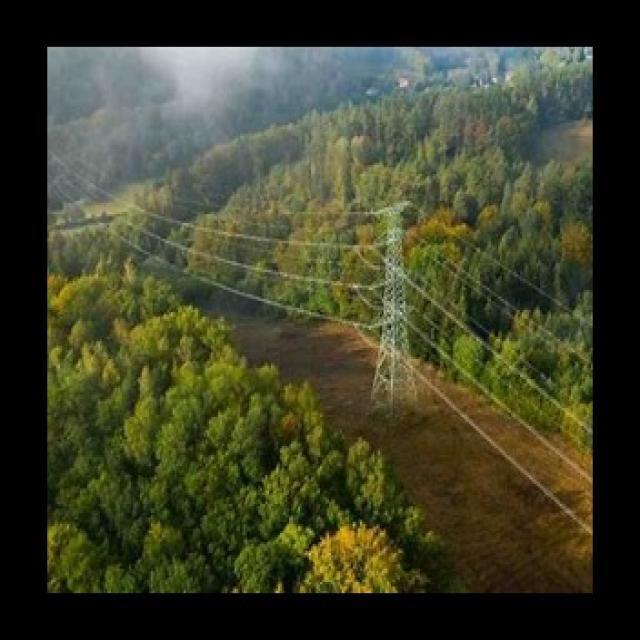utility poles: (356, 186, 445, 426)
